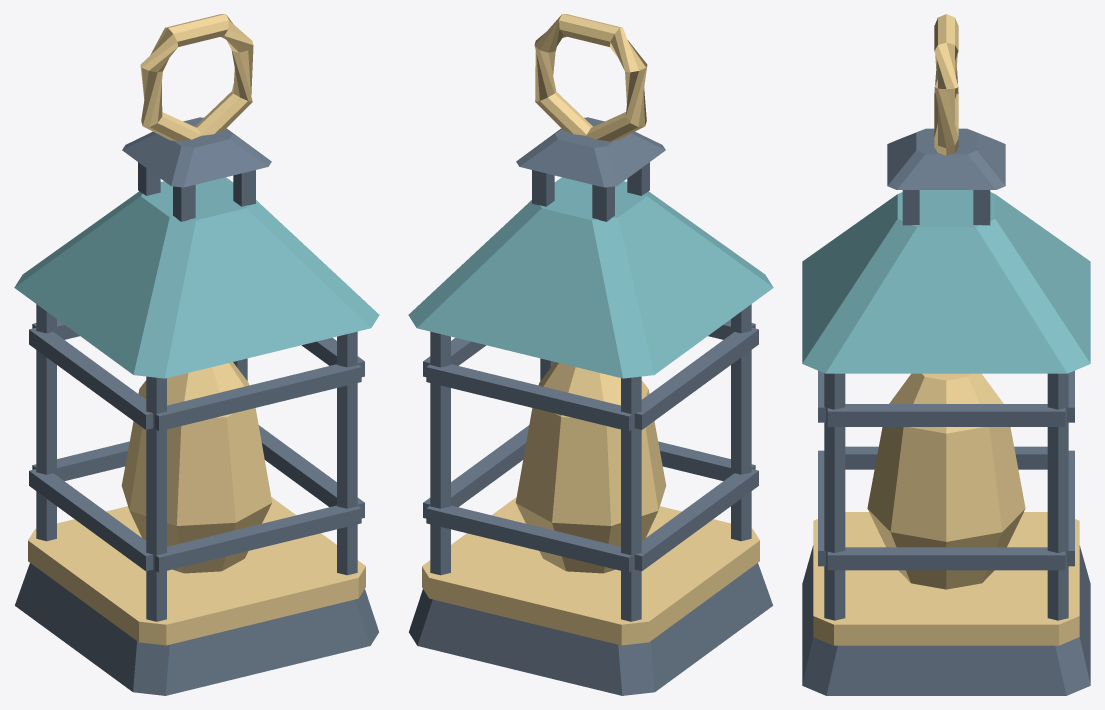
The model's file is hanging_lantern.glb.
The picture shows the model from 3 angles, left to right: view 1: azimuth 30°, elevation 25°; view 2: azimuth 150°, elevation 25°; view 3: azimuth 270°, elevation 25°; orthographic projection.
Parts seen in each view (by area): view 1: lantern_pitched_hood, lantern_base_trim, lantern_base, lantern_opaque_warm_core, lantern_top_hanging_loop, lantern_vent_cap, lantern_cross_bar, lantern_cross_bar.004, lantern_cage_bar, lantern_cage_bar.002, lantern_cage_bar.001, lantern_cross_bar.006 (+6 smaller); view 2: lantern_pitched_hood, lantern_base_trim, lantern_base, lantern_opaque_warm_core, lantern_top_hanging_loop, lantern_vent_cap, lantern_cross_bar.001, lantern_cross_bar.005, lantern_cage_bar.001, lantern_cage_bar.003, lantern_cage_bar, lantern_cross_bar.006 (+6 smaller); view 3: lantern_pitched_hood, lantern_opaque_warm_core, lantern_base_trim, lantern_base, lantern_vent_cap, lantern_cross_bar.003, lantern_cross_bar.007, lantern_cage_bar.002, lantern_cage_bar.003, lantern_top_hanging_loop, lantern_cross_bar.002, lantern_cross_bar (+3 smaller).
Part boxes in pixels (x1,y1,x2,y2): lantern_pitched_hood: (14, 177, 379, 378); lantern_base_trim: (28, 497, 365, 645); lantern_base: (15, 563, 378, 695); lantern_opaque_warm_core: (121, 362, 272, 573); lantern_top_hanging_loop: (140, 14, 253, 141); lantern_vent_cap: (122, 117, 271, 187); lantern_cross_bar: (155, 505, 361, 572); lantern_cross_bar.004: (155, 364, 361, 431); lantern_cage_bar: (146, 376, 166, 621); lantern_cage_bar.002: (337, 331, 357, 575); lantern_cage_bar.001: (36, 304, 56, 541); lantern_cross_bar.006: (29, 327, 153, 429); lantern_pitched_hood: (408, 177, 773, 378); lantern_base_trim: (422, 497, 759, 645); lantern_base: (409, 563, 772, 695); lantern_opaque_warm_core: (515, 362, 666, 573); lantern_top_hanging_loop: (534, 14, 647, 141); lantern_vent_cap: (516, 117, 665, 187); lantern_cross_bar.001: (426, 505, 632, 572); lantern_cross_bar.005: (426, 364, 632, 431); lantern_cage_bar.001: (621, 376, 641, 621); lantern_cage_bar.003: (430, 331, 450, 575); lantern_cage_bar: (731, 304, 751, 541); lantern_cross_bar.006: (634, 327, 758, 429); lantern_pitched_hood: (802, 190, 1090, 373); lantern_opaque_warm_core: (867, 373, 1025, 589); lantern_base_trim: (813, 512, 1079, 645); lantern_base: (802, 545, 1090, 695); lantern_vent_cap: (887, 128, 1005, 189); lantern_cross_bar.003: (827, 547, 1065, 570); lantern_cross_bar.007: (827, 404, 1065, 426); lantern_cage_bar.002: (824, 373, 845, 620); lantern_cage_bar.003: (1047, 373, 1068, 620); lantern_top_hanging_loop: (934, 14, 958, 155); lantern_cross_bar.002: (845, 446, 1047, 469); lantern_cross_bar: (818, 450, 825, 566).
Bounding box in the file's own units: 0.31 × 0.7193 × 0.31.
